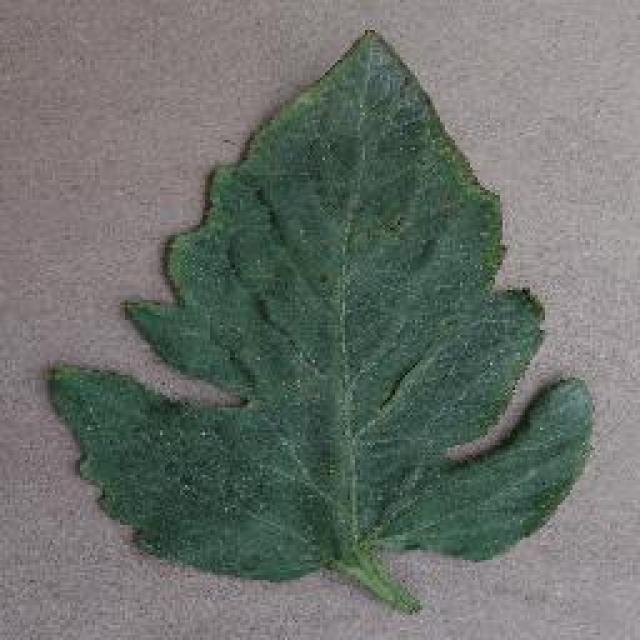Tomato bacterial spot leaf: (49, 25, 594, 607)
